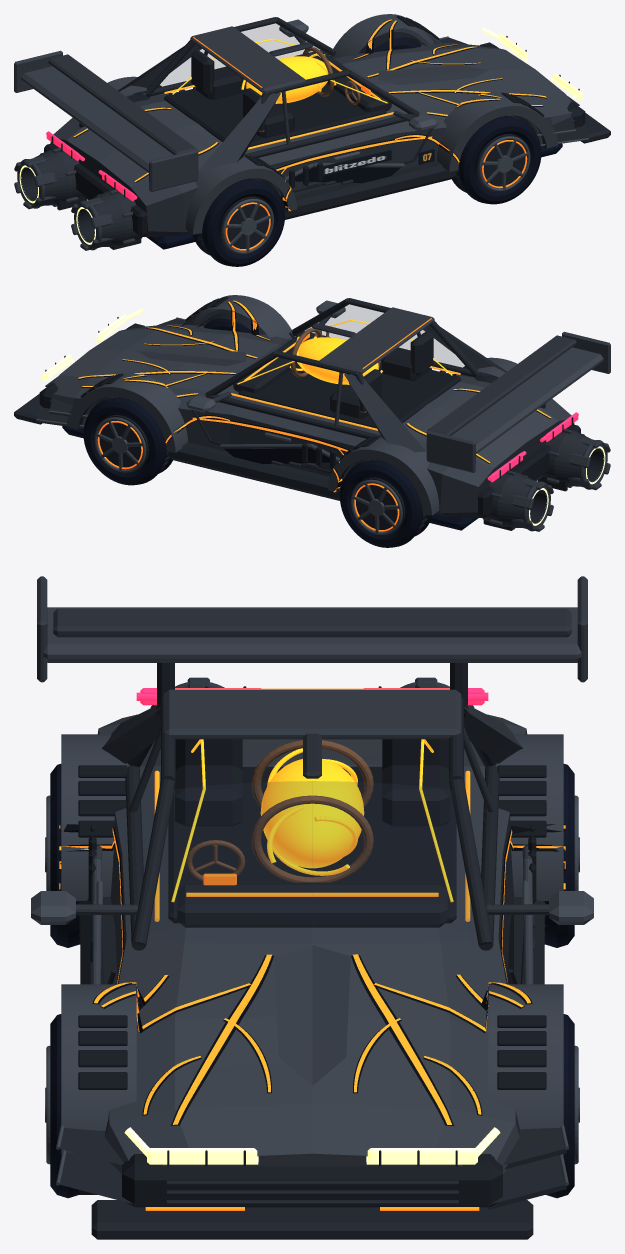
Rendered from CINDER.glb.
The picture shows the model from 3 angles, top to bottom: view 1: azimuth 30°, elevation 25°; view 2: azimuth 150°, elevation 25°; view 3: azimuth 270°, elevation 25°; orthographic projection. The views are drawn at different scales.
Parts seen in each view (by area): view 1: shell_0, interior_1, wheel_13, wheel_15, boosterHousing_10, veins_9, veinBeds_8, glass_7, plasma_6, filament_2, frontlava_3, taillava_4 (+1 smaller); view 2: shell_0, interior_1, wheel_12, wheel_14, boosterHousing_10, veins_9, veinBeds_8, glass_7, plasma_6, filament_2, frontlava_3, taillava_4 (+1 smaller); view 3: shell_0, glass_7, interior_1, plasma_6, veinBeds_8, veins_9, frontlava_3, filament_2, wheel_15, wheel_12, wheel_13, wheel_14.
Part boxes in pixels (x1,y1,x2,y2): shell_0: (14, 14, 610, 249); interior_1: (164, 47, 391, 147); wheel_13: (192, 178, 284, 266); wheel_15: (452, 115, 541, 204); boosterHousing_10: (17, 148, 142, 250); veins_9: (73, 19, 546, 211); veinBeds_8: (73, 20, 546, 211); glass_7: (157, 24, 376, 88); plasma_6: (172, 38, 387, 103); filament_2: (164, 37, 393, 149); frontlava_3: (481, 27, 582, 100); taillava_4: (46, 131, 137, 201); shell_0: (14, 295, 610, 530); interior_1: (233, 328, 460, 428); wheel_12: (340, 459, 432, 547); wheel_14: (83, 396, 172, 485); boosterHousing_10: (482, 429, 607, 531); veins_9: (78, 300, 551, 492); veinBeds_8: (78, 301, 551, 492); glass_7: (248, 305, 467, 369); plasma_6: (237, 319, 452, 384); filament_2: (231, 318, 460, 430); frontlava_3: (42, 308, 143, 381); taillava_4: (487, 412, 578, 482); shell_0: (31, 576, 593, 1239); glass_7: (141, 740, 483, 943); interior_1: (168, 739, 456, 927); plasma_6: (171, 739, 453, 902); veinBeds_8: (60, 824, 564, 1125); veins_9: (59, 825, 565, 1124); frontlava_3: (124, 1127, 500, 1164); filament_2: (145, 688, 479, 1210); wheel_15: (45, 1014, 97, 1198); wheel_12: (544, 764, 579, 947); wheel_13: (45, 764, 80, 947); wheel_14: (545, 1014, 579, 1198).
Bounding box in the file's own units: 5.42 × 1.52 × 2.62.
Materials: 25 (1 with a texture image).
